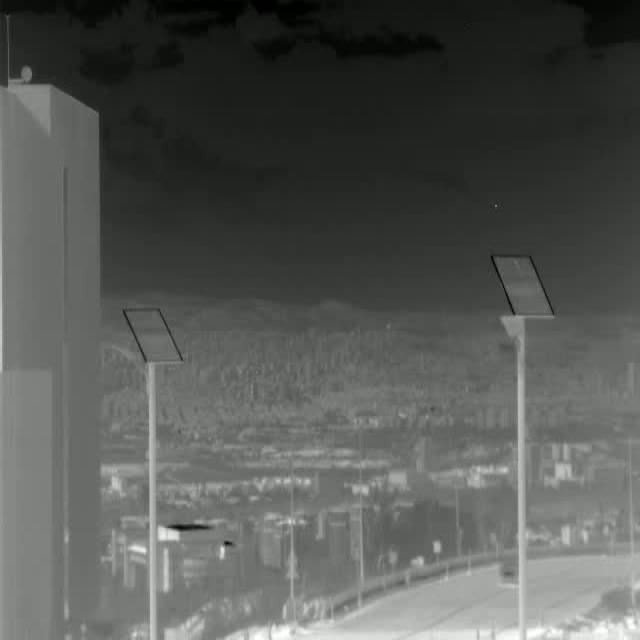Car: (498, 557, 518, 584)
